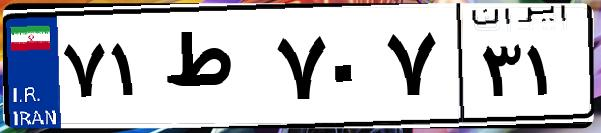0: (330, 28, 385, 110)
1: (525, 38, 570, 115), (110, 28, 158, 98)
3: (475, 38, 525, 113)
7: (270, 28, 330, 110), (385, 28, 445, 110), (57, 26, 110, 100)
ط: (158, 20, 270, 120)
